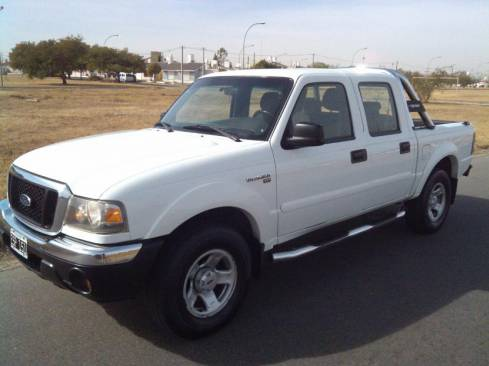car: (1, 69, 474, 330)
